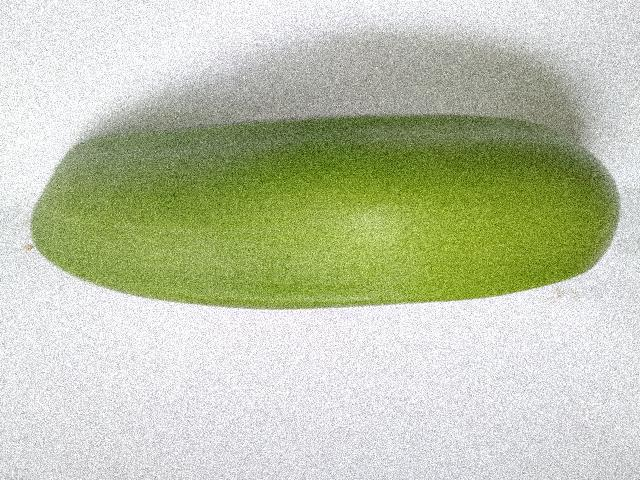freshunripe: (20, 99, 639, 331)
